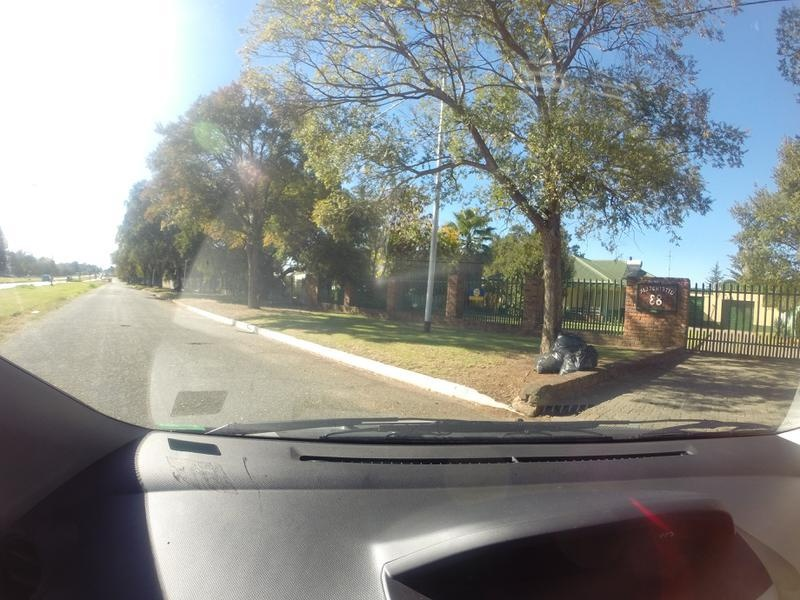pothole: (186, 338, 213, 343), (116, 323, 130, 331)
